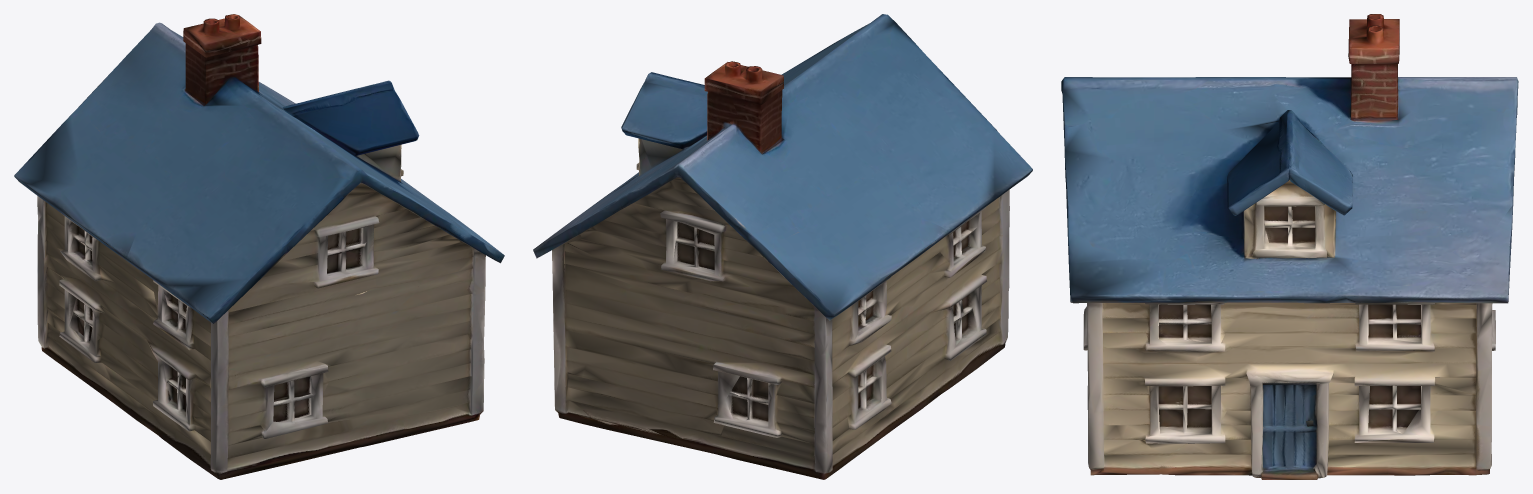
The model's file is cottage-2.glb.
3 renders of one model, left to right at view 1: azimuth 30°, elevation 25°; view 2: azimuth 150°, elevation 25°; view 3: azimuth 270°, elevation 25°, orthographic. The views are drawn at different scales.
Visible parts, largest first — view 1: tripo_node_0709279c-f6a0-4cb9-8f41-3070de4ee906; view 2: tripo_node_0709279c-f6a0-4cb9-8f41-3070de4ee906; view 3: tripo_node_0709279c-f6a0-4cb9-8f41-3070de4ee906.
Part boxes in pixels (left/top/right/bottom): tripo_node_0709279c-f6a0-4cb9-8f41-3070de4ee906: left=14, top=14, right=504, bottom=479; tripo_node_0709279c-f6a0-4cb9-8f41-3070de4ee906: left=533, top=14, right=1032, bottom=479; tripo_node_0709279c-f6a0-4cb9-8f41-3070de4ee906: left=1061, top=14, right=1518, bottom=479.
Bounding box in the file's own units: 0.8404 × 0.92 × 0.9994.
1 material, 1 textured.
